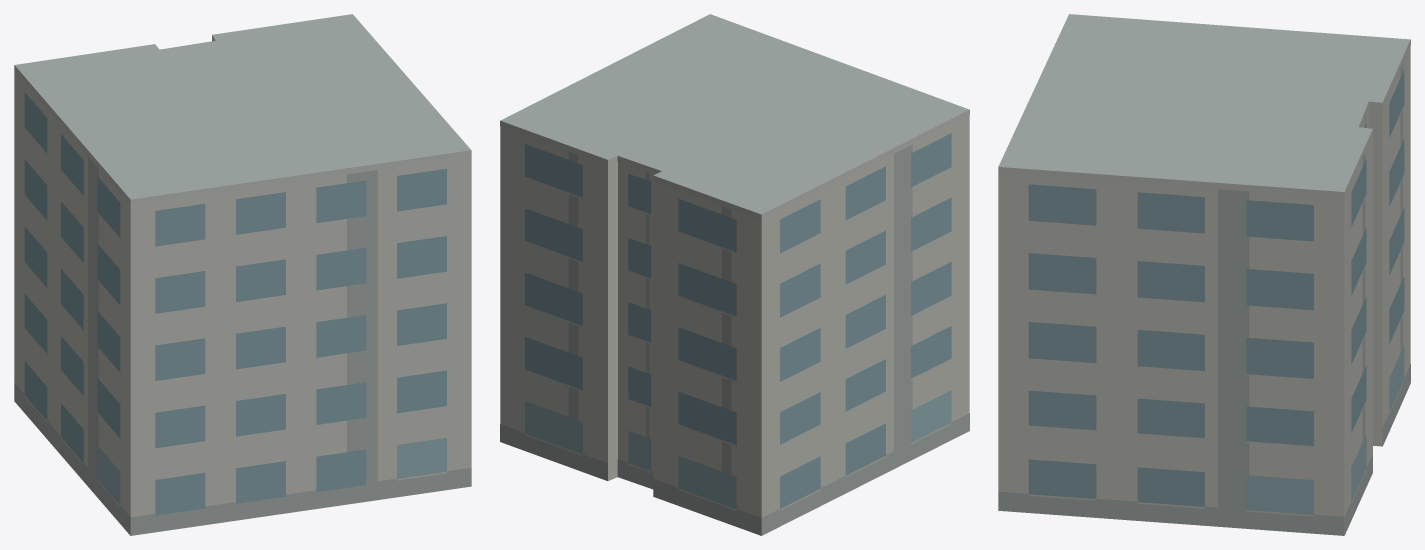
The model's file is survey-upis-32887512.glb.
3 renders of one model, left to right at view 1: azimuth 30°, elevation 25°; view 2: azimuth 150°, elevation 25°; view 3: azimuth 270°, elevation 25°, orthographic. The views are drawn at different scales.
Parts seen in each view (by area): view 1: survey-upis-32887512.tmp; view 2: survey-upis-32887512.tmp; view 3: survey-upis-32887512.tmp.
Part boxes in pixels (x1=…): survey-upis-32887512.tmp: x1=14, y1=14, x2=471, y2=535; survey-upis-32887512.tmp: x1=500, y1=14, x2=969, y2=535; survey-upis-32887512.tmp: x1=998, y1=14, x2=1410, y2=535.
Size of the model in its own units: 14.89 by 13.4 by 14.58.
